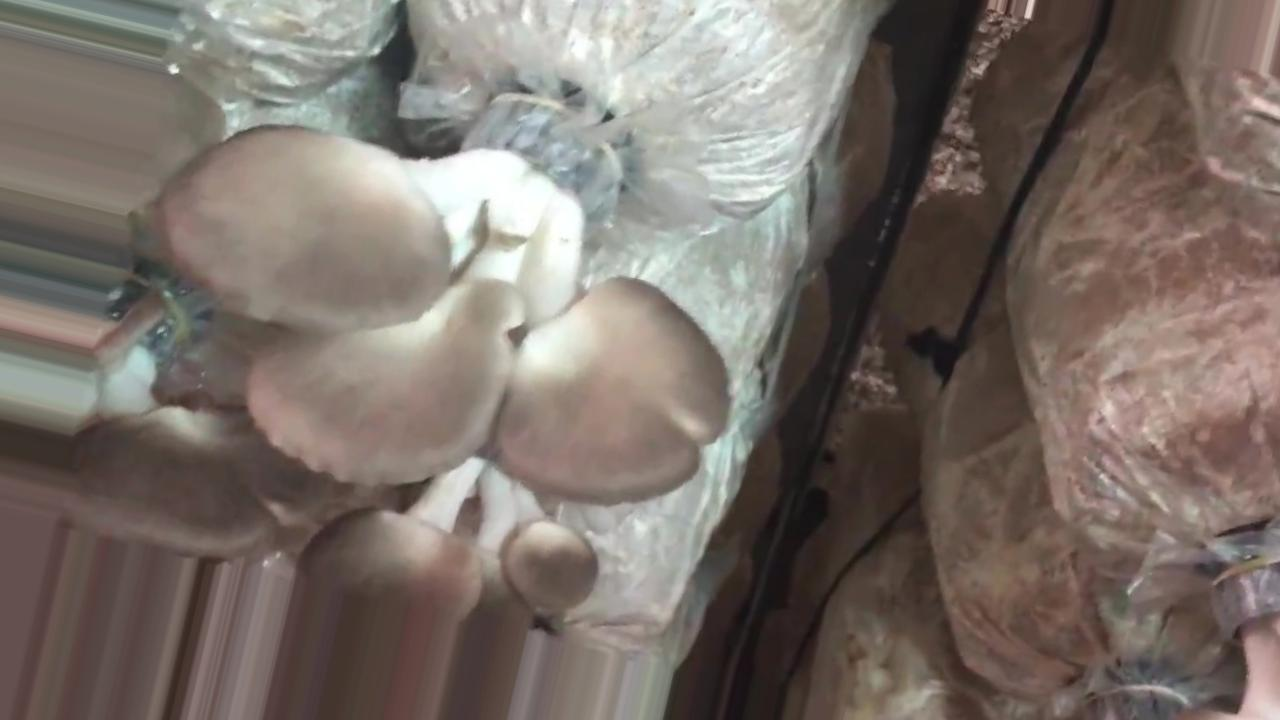nam: (163, 98, 731, 506), (265, 459, 600, 720)
